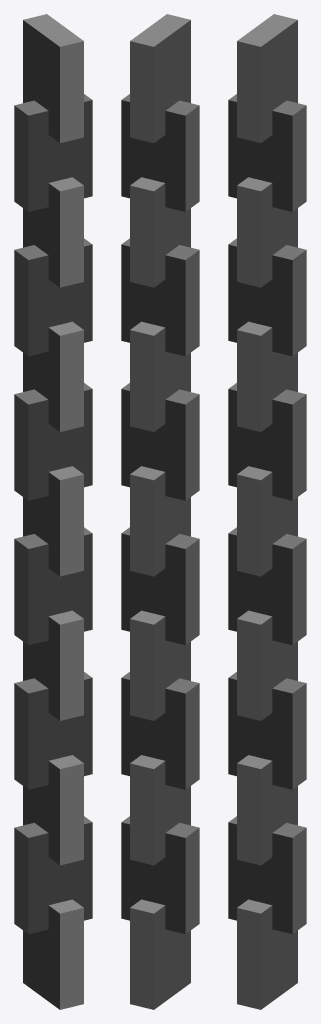
File: SD_Prop_HangingChain_02.fbx
3 views of the same model, side by side, from view 1: azimuth 30°, elevation 25°; view 2: azimuth 150°, elevation 25°; view 3: azimuth 330°, elevation 25° (orthographic).
Parts seen in each view (by area): view 1: SD_Prop_HangingChain_02; view 2: SD_Prop_HangingChain_02; view 3: SD_Prop_HangingChain_02.
Part boxes in pixels (bbox=[...]): SD_Prop_HangingChain_02: bbox=[14, 14, 92, 1009]; SD_Prop_HangingChain_02: bbox=[121, 14, 199, 1009]; SD_Prop_HangingChain_02: bbox=[228, 14, 306, 1009].
Size of the model in its own units: 0.2728 by 3.91 by 0.2728.
